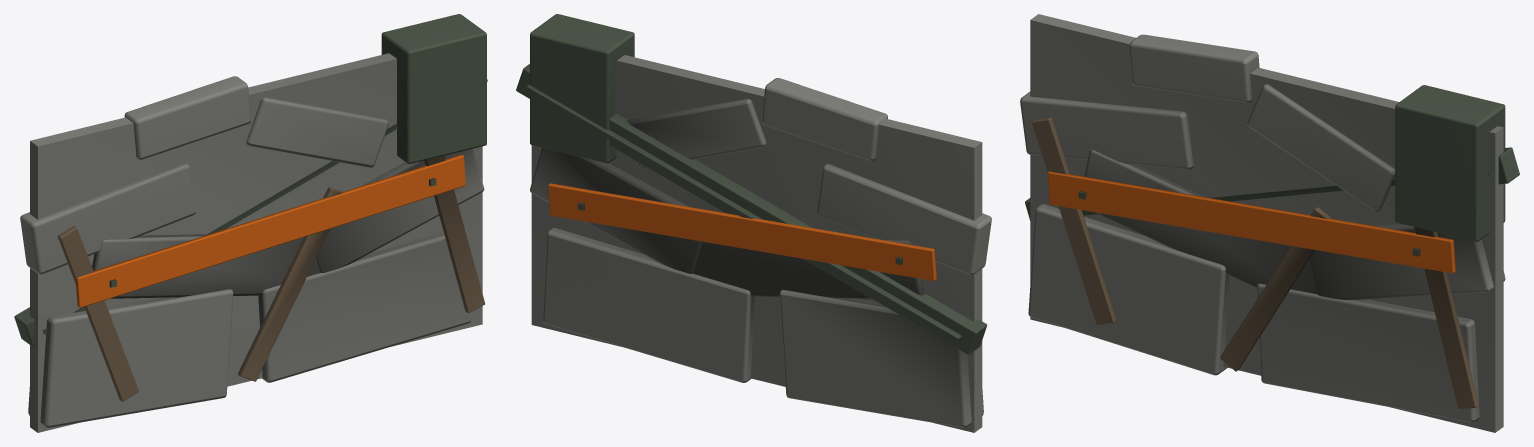
File: debris_pile.glb
3 renders of one model, left to right at view 1: azimuth 30°, elevation 25°; view 2: azimuth 150°, elevation 25°; view 3: azimuth 330°, elevation 25°, orthographic. The views are drawn at different scales.
Visible parts, largest first — view 1: DebrisPile; view 2: DebrisPile; view 3: DebrisPile.
Boxes of the visible parts, <box> form: DebrisPile: <box>14,14,487,432</box>; DebrisPile: <box>516,14,991,432</box>; DebrisPile: <box>1020,14,1519,432</box>.
Size of the model in its own units: 4.06 by 2.58 by 0.53.
